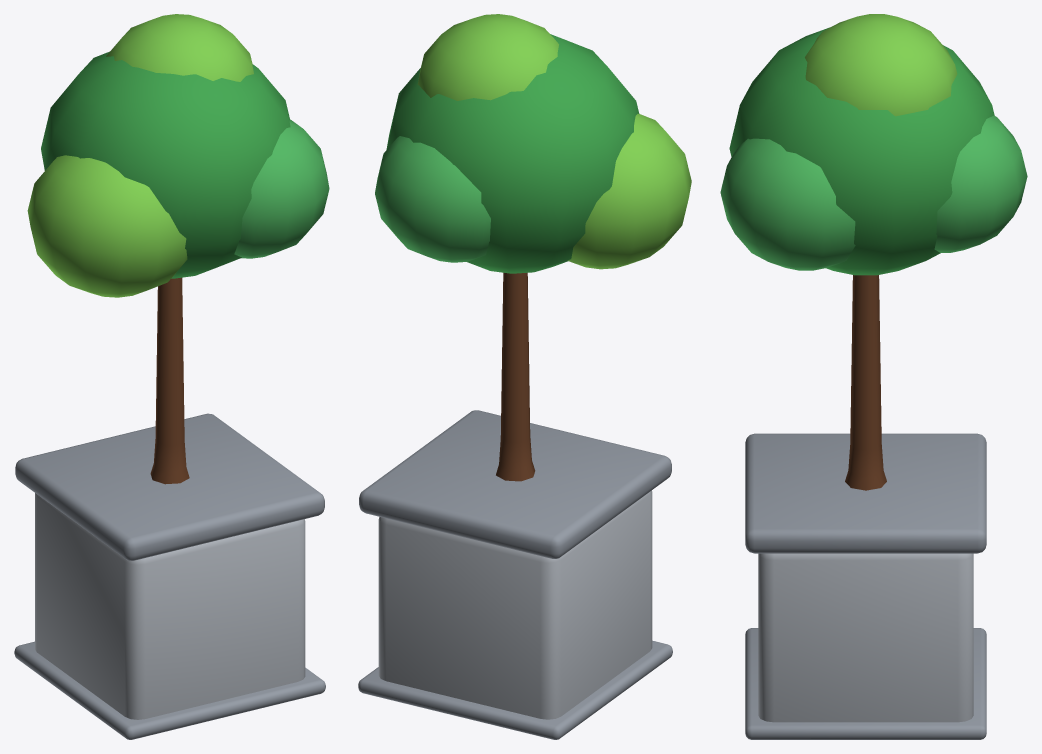
File: vaso_calcada.glb
The picture shows the model from 3 angles, left to right: view 1: azimuth 30°, elevation 25°; view 2: azimuth 150°, elevation 25°; view 3: azimuth 270°, elevation 25°; orthographic projection. The views are drawn at different scales.
Visible parts, largest first — view 1: vaso_calcada; view 2: vaso_calcada; view 3: vaso_calcada.
Part boxes in pixels (<box>): vaso_calcada: <box>14,14,329,739</box>; vaso_calcada: <box>358,14,691,739</box>; vaso_calcada: <box>720,14,1027,739</box>.
Size of the model in its own units: 1.21 by 2.84 by 1.17.
Materials: 1 (1 with a texture image).
